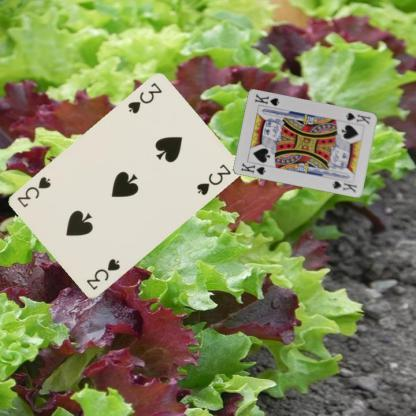3s: (124, 80, 164, 116), (84, 256, 122, 292)
Ks: (238, 160, 268, 176), (343, 110, 372, 126)
